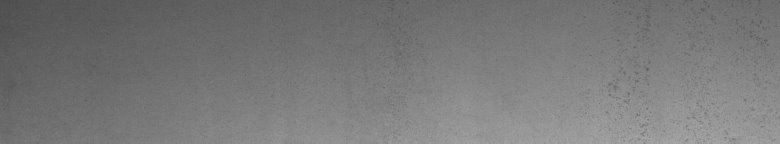ib: (604, 6, 768, 128)
